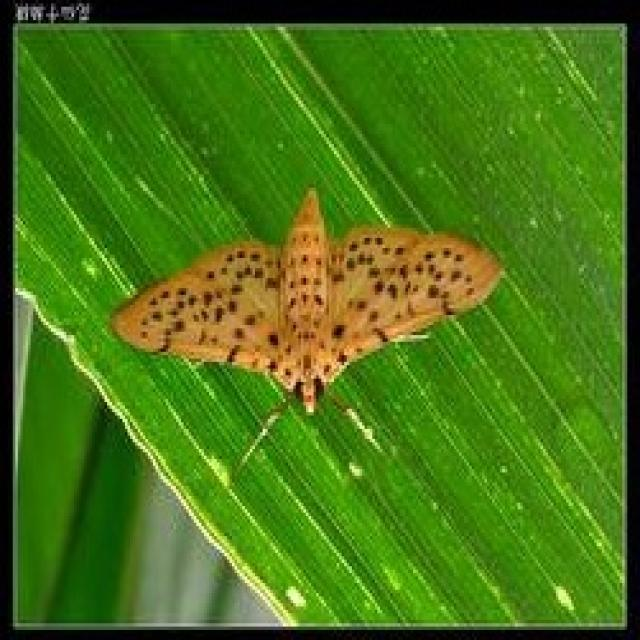peach borer: (104, 189, 505, 430)
